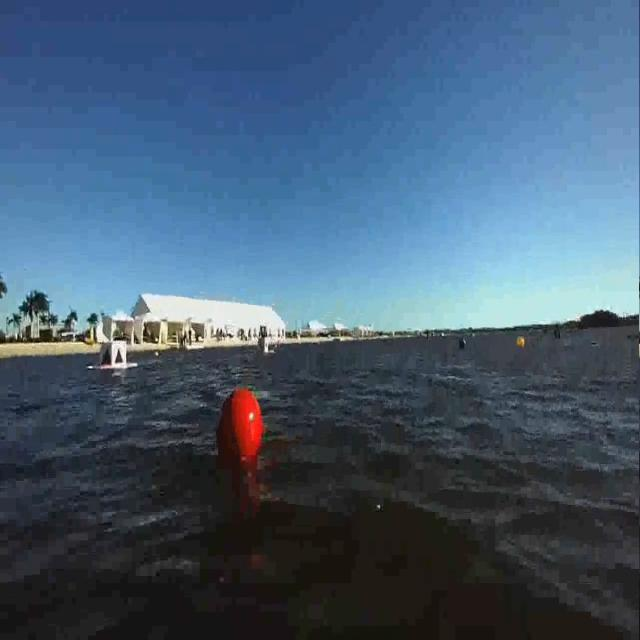red-buoy: (217, 387, 266, 466)
yellow-buoy: (515, 336, 525, 351)
